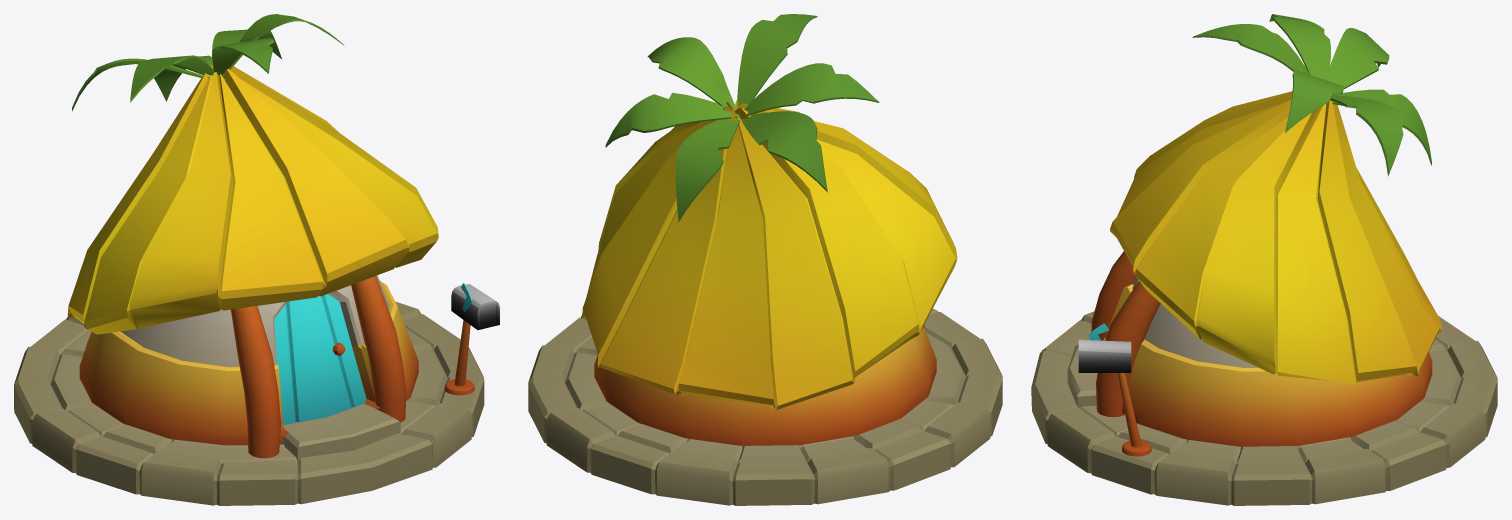
The model's file is House_2.FBX.
3 renders of one model, left to right at view 1: azimuth 30°, elevation 25°; view 2: azimuth 150°, elevation 25°; view 3: azimuth 270°, elevation 25°, orthographic.
Parts seen in each view (by area): view 1: House_2; view 2: House_2; view 3: House_2.
Part boxes in pixels (x1=…): House_2: x1=14, y1=14, x2=499, y2=505; House_2: x1=528, y1=14, x2=1002, y2=505; House_2: x1=1031, y1=14, x2=1497, y2=505.
Size of the model in its own units: 52.35 by 46.19 by 52.55.
Materials: 1 (1 with a texture image).
